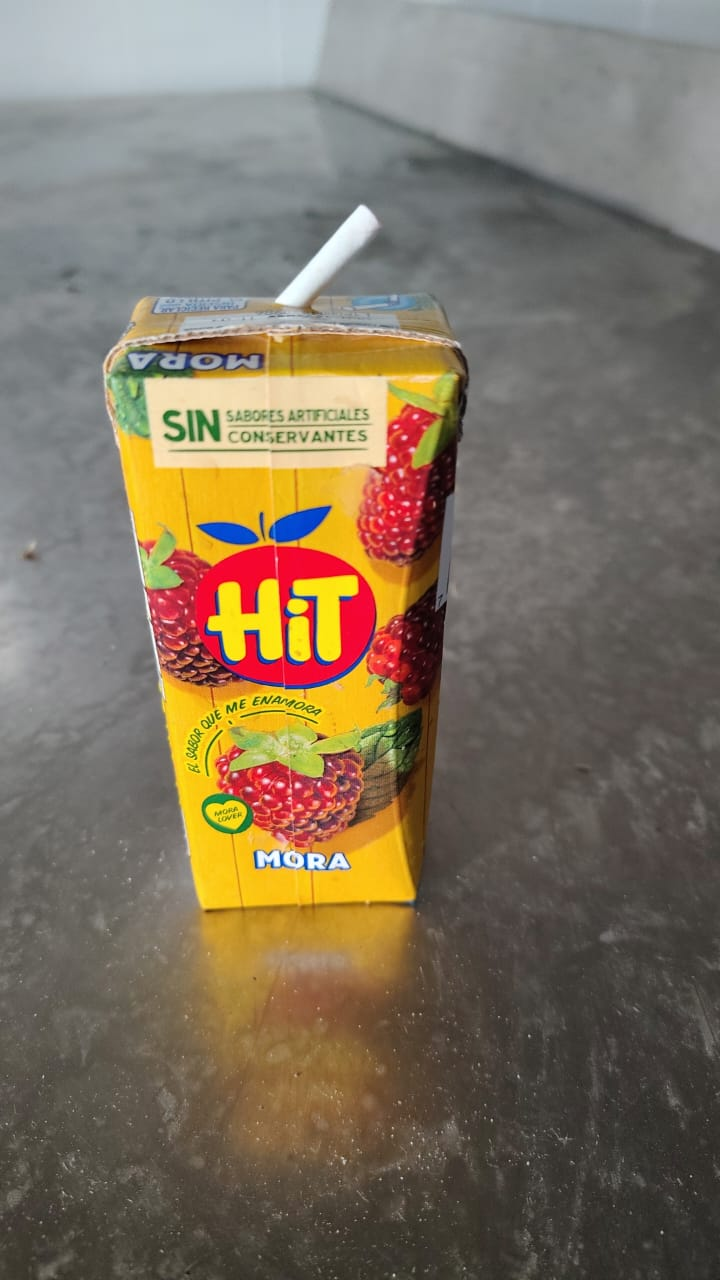Carton: (105, 295, 471, 910)
